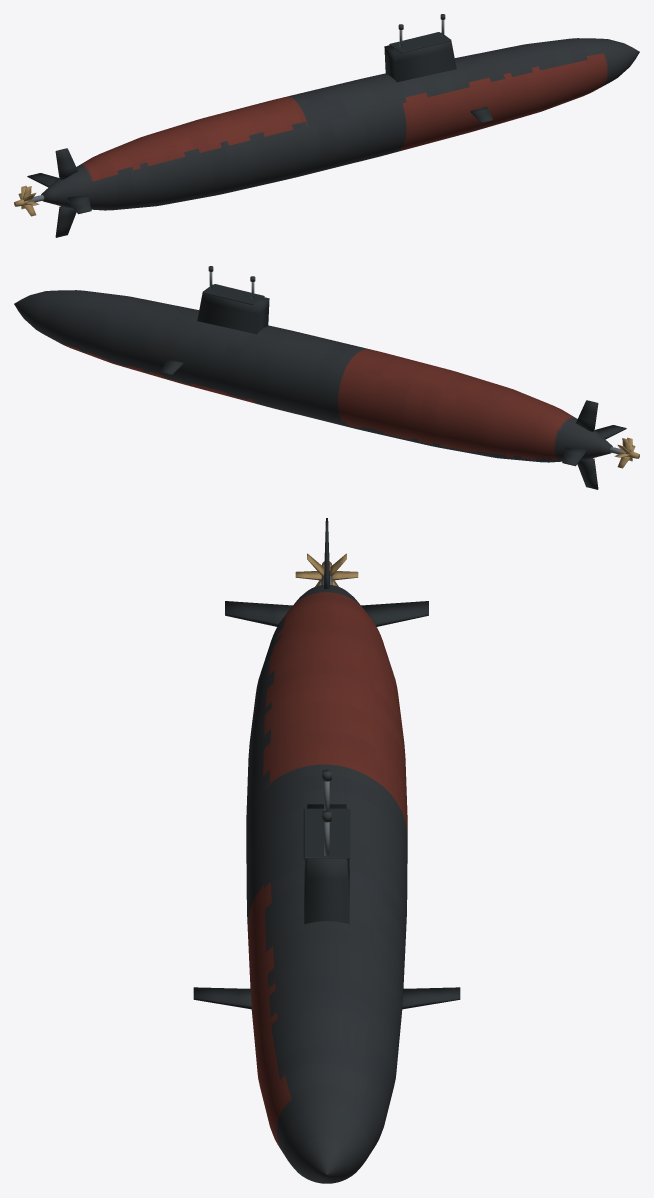
Rendered from UK_SSN_Dreadnought.glb.
The picture shows the model from 3 angles, top to bottom: view 1: azimuth 30°, elevation 25°; view 2: azimuth 150°, elevation 25°; view 3: azimuth 270°, elevation 25°; orthographic projection. The views are drawn at different scales.
Visible parts, largest first — view 1: UK_SSN_Dreadnought_LOD0; view 2: UK_SSN_Dreadnought_LOD0; view 3: UK_SSN_Dreadnought_LOD0.
Part boxes in pixels (x1,y1,x2,y2): UK_SSN_Dreadnought_LOD0: [14, 14, 639, 237]; UK_SSN_Dreadnought_LOD0: [14, 266, 639, 489]; UK_SSN_Dreadnought_LOD0: [193, 518, 460, 1183].
Size of the model in its own units: 84.75 by 16.63 by 15.66.
6 materials, 1 textured.
